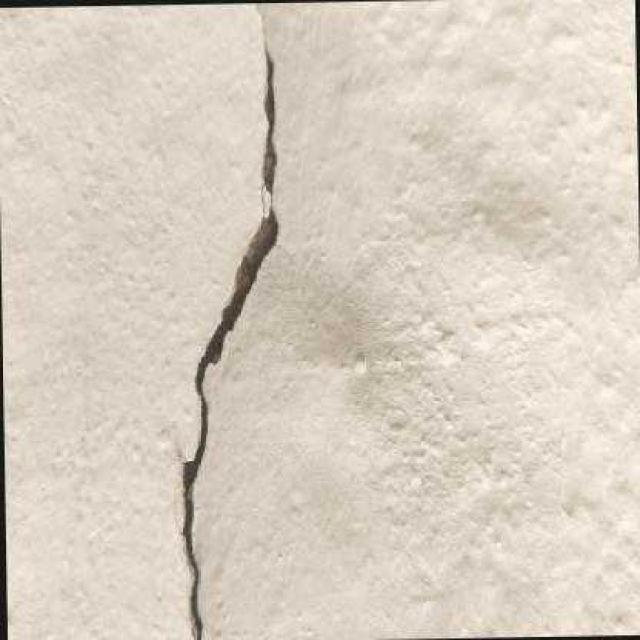D00: (178, 32, 280, 640)
